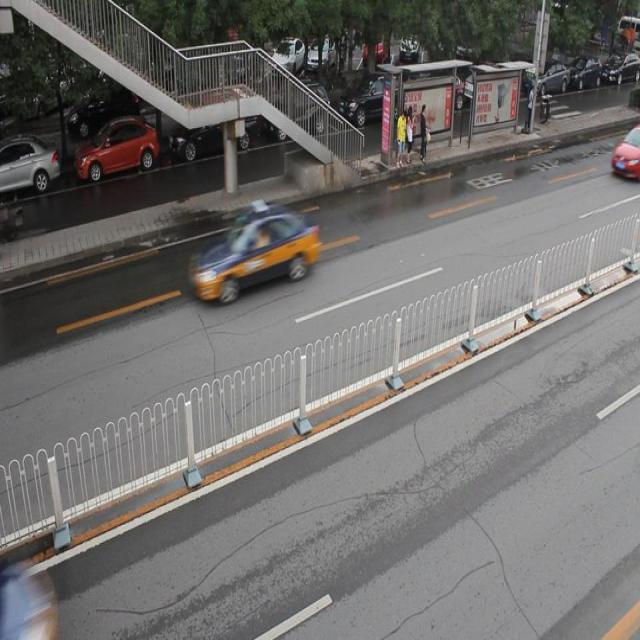car: (188, 202, 319, 302), (168, 94, 257, 158), (74, 119, 158, 183), (336, 72, 407, 129), (265, 86, 329, 143), (1, 137, 58, 197), (610, 126, 640, 180)
